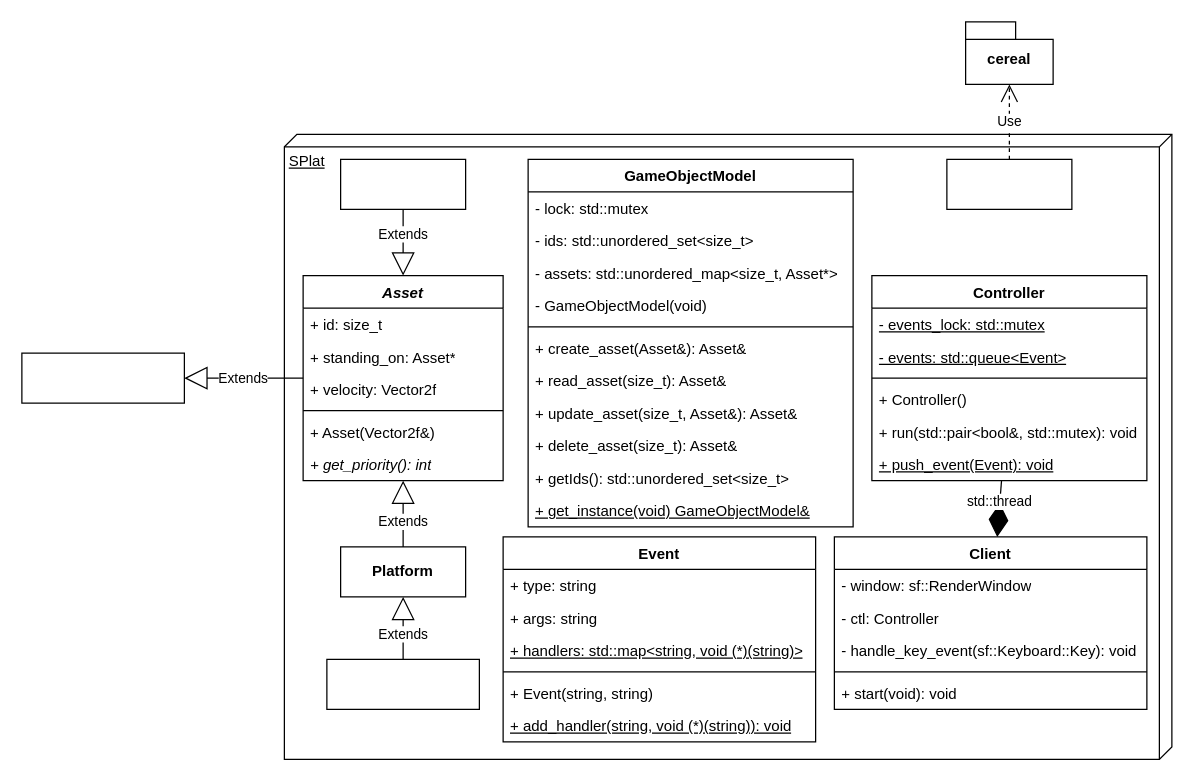
Some shapes in this 1194 by 781 pixel diagram are drawn without their labels. The shapes that lost their labels are listed below. From the top down, each one's centre as x and y in pixels, then its label:
At pixel 402 183: "Character".
At pixel 1009 183: "Serialization".
At pixel 102 377: "sf::RectangleShape".
At pixel 402 683: "MovingPlatform".
